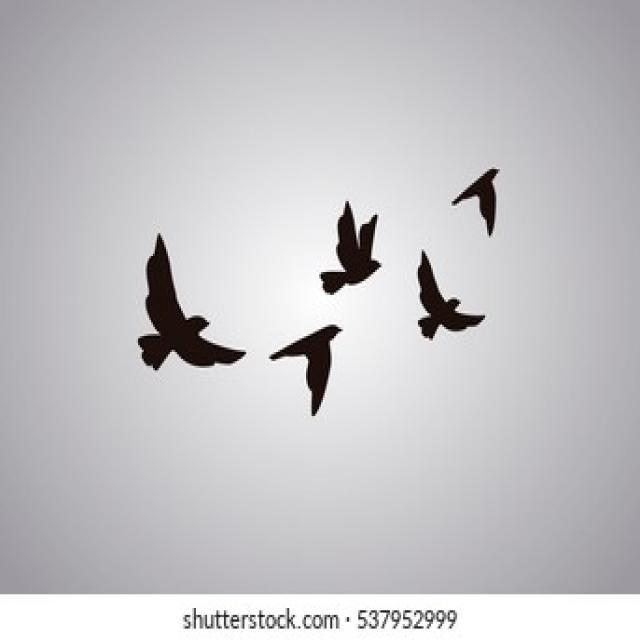bird: (100, 186, 250, 401), (390, 238, 515, 404), (245, 305, 378, 429), (294, 166, 398, 316), (436, 140, 512, 249)
